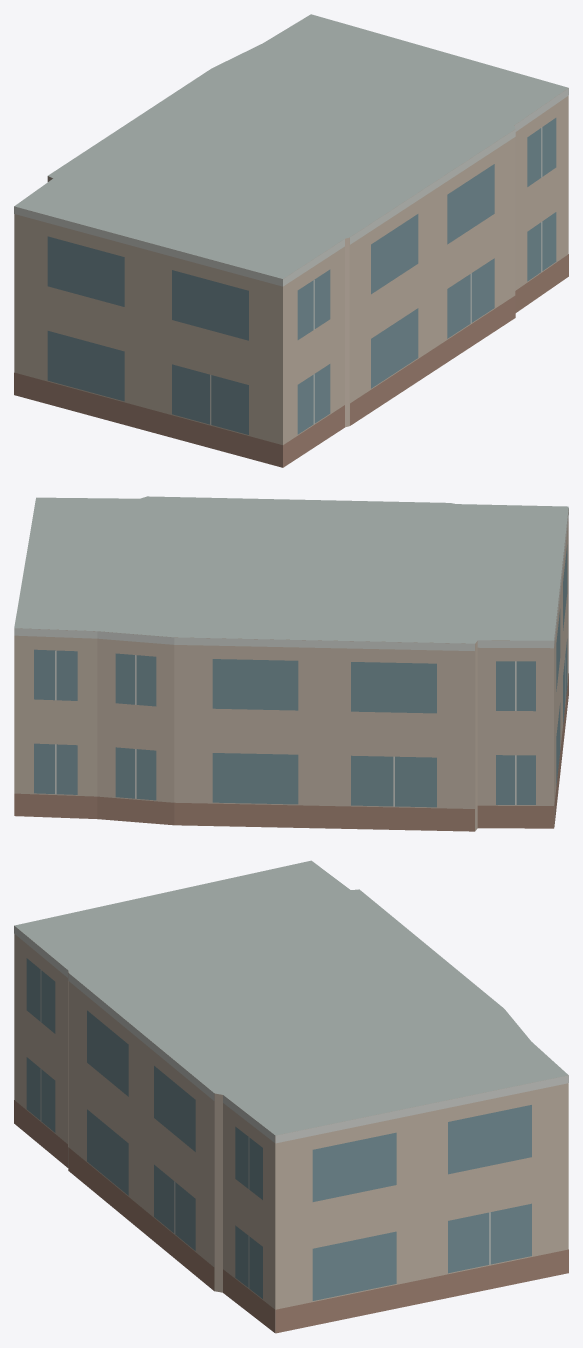
File: survey-upis-32526747.glb
3 views of the same model, one above another, from view 1: azimuth 30°, elevation 25°; view 2: azimuth 150°, elevation 25°; view 3: azimuth 270°, elevation 25° (orthographic). The views are drawn at different scales.
Parts seen in each view (by area): view 1: survey-upis-32526747.tmp; view 2: survey-upis-32526747.tmp; view 3: survey-upis-32526747.tmp.
Boxes of the visible parts, x1,y1,x2,y2 form: survey-upis-32526747.tmp: (14,14,568,467); survey-upis-32526747.tmp: (14,496,568,831); survey-upis-32526747.tmp: (14,860,568,1333).
Bounding box in the file's own units: 18.2 × 6.1 × 15.51.
